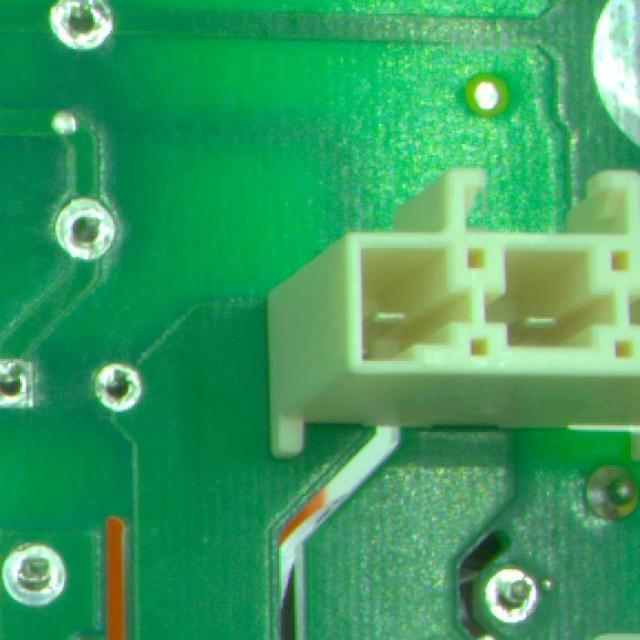Insufficient solder: (0, 530, 81, 620), (48, 192, 118, 282), (74, 358, 151, 426), (48, 0, 120, 63), (476, 566, 545, 630), (0, 355, 41, 412)
